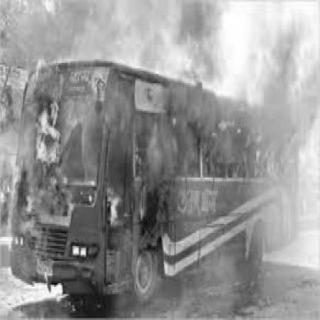Fire: (104, 100, 133, 227), (200, 131, 211, 177)
